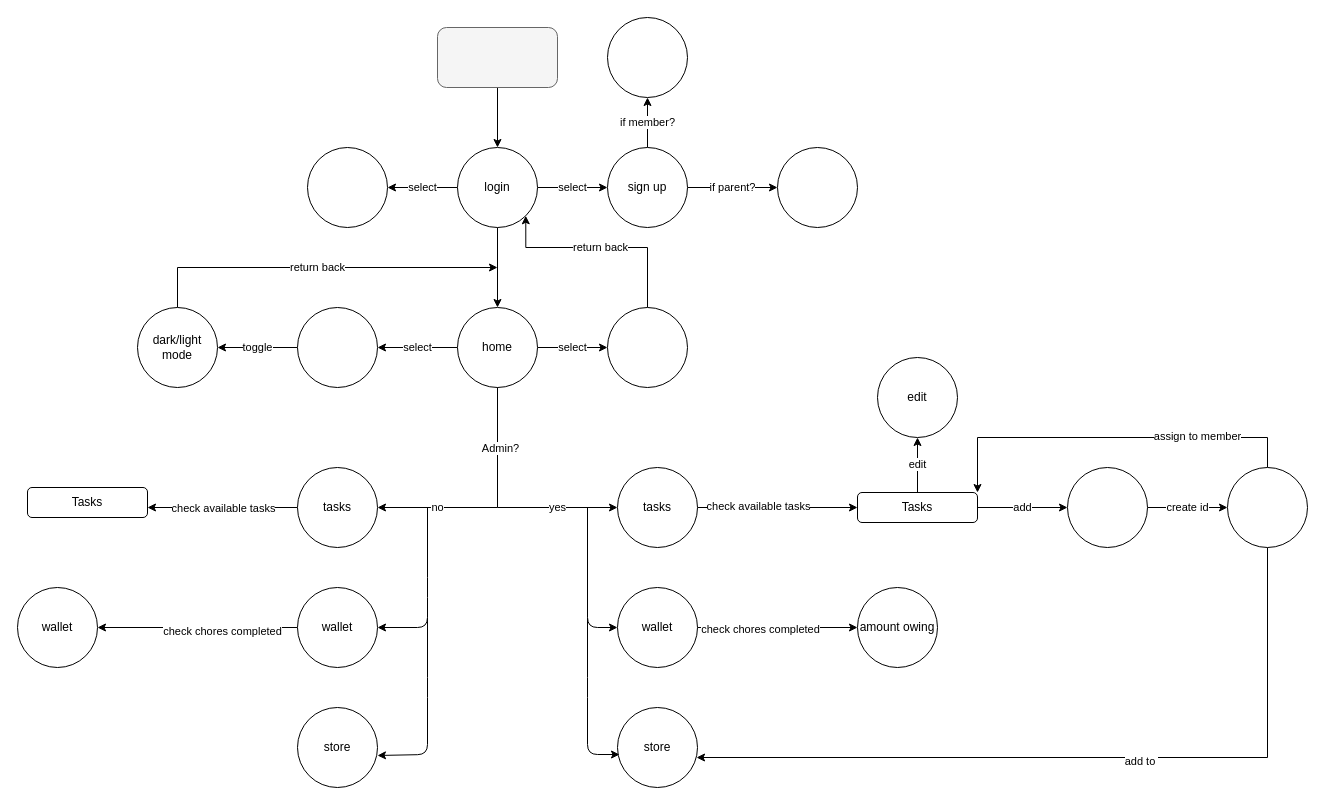
The diagram is 1325 pixels wide and 805 high, and some of its shapes have lost their labels. Each missing label, with the centre of its shape:
"assign" goes at point 1267,507.
"create family" goes at point 817,187.
"create task" goes at point 1107,507.
"generate pin" goes at point 647,57.
"recovery" goes at point 347,187.
"settings" goes at point 337,347.
"sign out" goes at point 647,347.
"User" goes at point 497,57.
